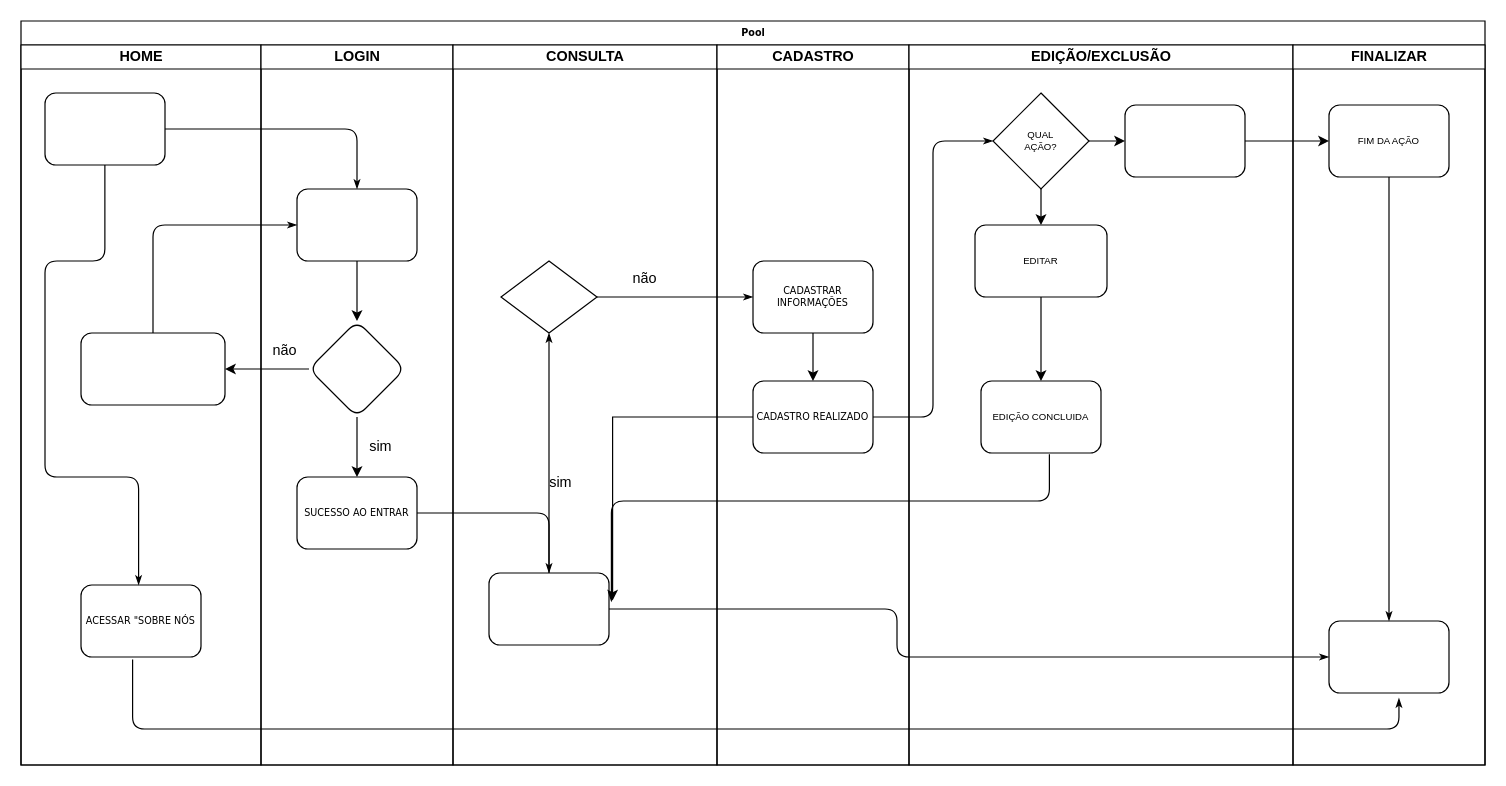
The diagram is 1506 pixels wide and 786 high, and some of its shapes have lost their labels. The centre of each missing label's shape, as x and y in pixels:
"DADO EXISTE?" goes at pixel 548 296.
"DADOS CONFERE?" goes at pixel 356 368.
"EXCLUIR" goes at pixel 1184 140.
"FIM DA UTILIZAÇÃO" goes at pixel 1388 656.
"LISTAR CONSULTA NA PLATAFORMA" goes at pixel 548 608.
"LOGIN OU SENHA INVALIDA" goes at pixel 152 368.
"REALIZA LOGIN" goes at pixel 356 224.
"USUÁRIO ACESSA PLATAFORMA" goes at pixel 104 128.
